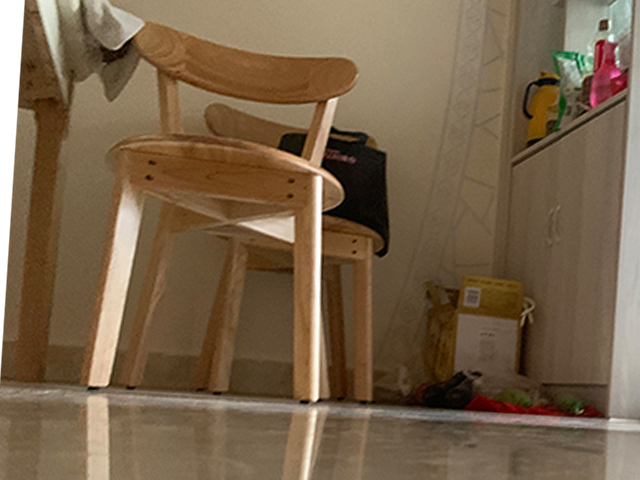cabinet: (501, 91, 640, 420)
stool: (83, 22, 360, 405), (204, 102, 384, 404)
